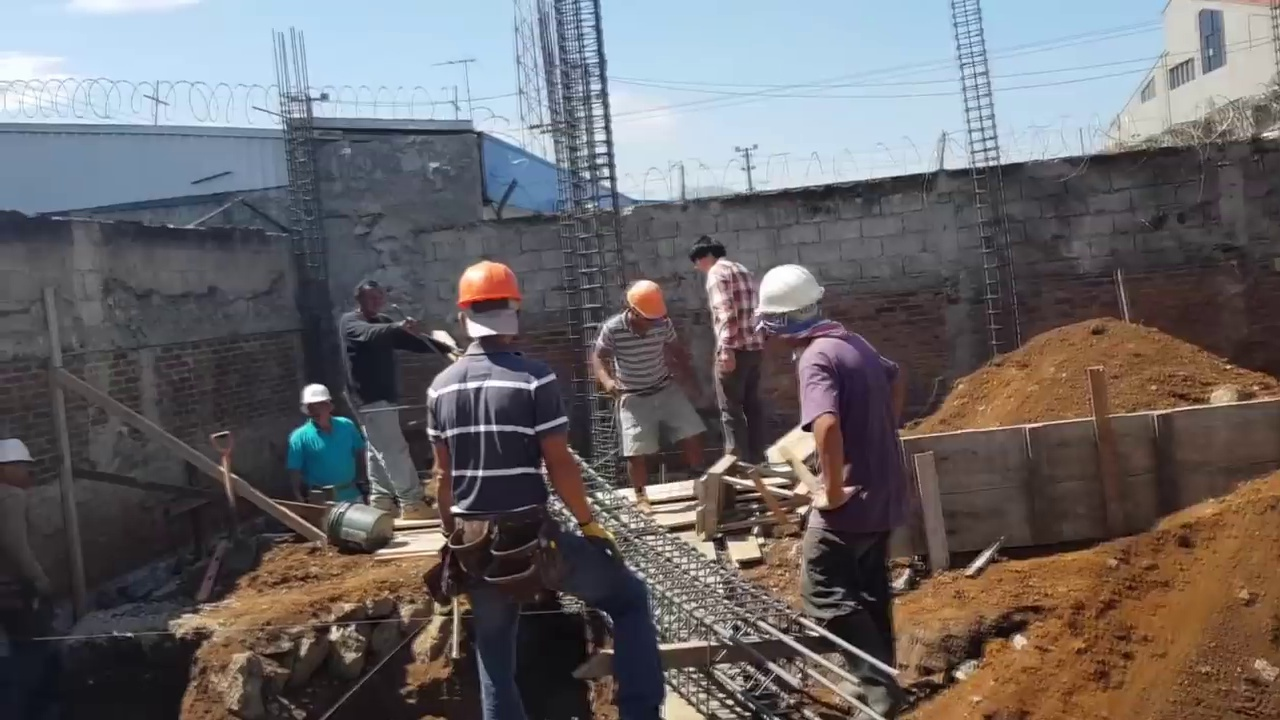helmet: (756, 263, 828, 320), (450, 260, 524, 308), (624, 279, 665, 319), (297, 382, 330, 404)
helmet-off: (691, 237, 725, 273), (352, 281, 387, 314)
helmet-on: (449, 260, 526, 361), (756, 261, 835, 345), (624, 279, 665, 335), (297, 384, 331, 428)
person: (435, 259, 664, 720), (755, 263, 905, 717), (598, 278, 704, 508), (341, 277, 435, 527), (690, 236, 776, 464), (283, 381, 374, 506)
